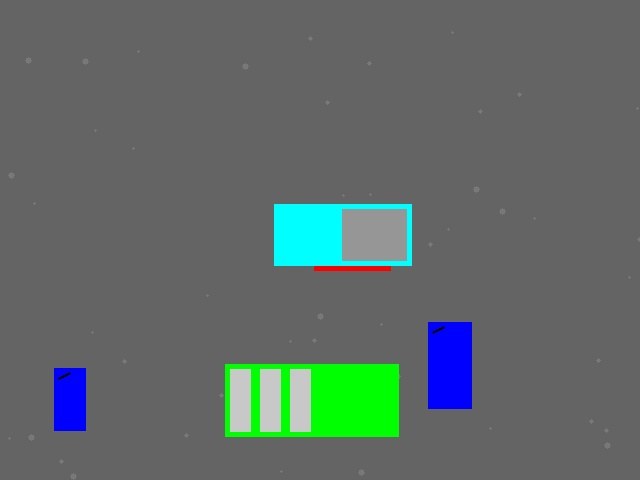bus: (225, 364, 398, 436)
car: (314, 232, 390, 270)
motorcycle: (428, 322, 471, 408), (54, 368, 85, 430)
truck: (274, 204, 411, 265)
